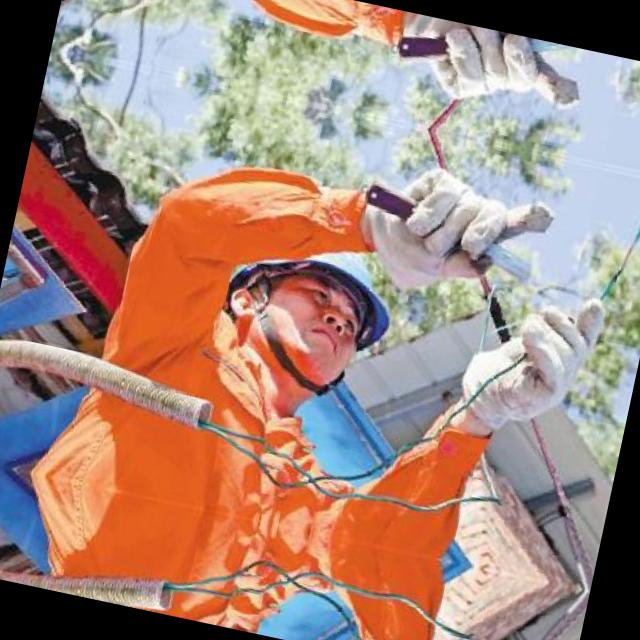helmet: (185, 200, 415, 418)
